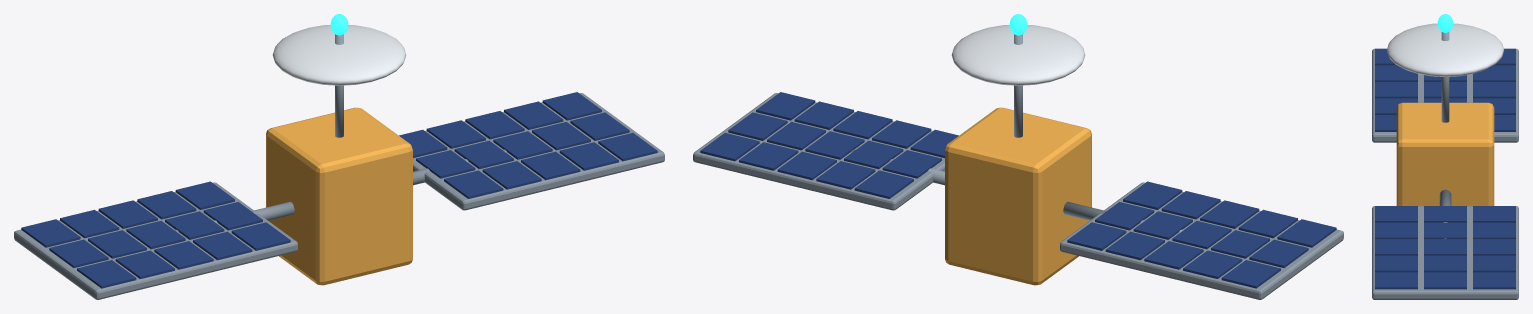
File: research-probe.glb
3 views of the same model, side by side, from view 1: azimuth 30°, elevation 25°; view 2: azimuth 150°, elevation 25°; view 3: azimuth 270°, elevation 25° (orthographic). The views are drawn at different scales.
Parts seen in each view (by area): view 1: Static_Probe photovoltaic blue, Probe bus, Static_Brushed titanium, Probe dish; view 2: Static_Probe photovoltaic blue, Probe bus, Static_Brushed titanium, Probe dish; view 3: Static_Probe photovoltaic blue, Probe bus, Static_Brushed titanium, Probe dish, Probe beacon.
Boxes of the visible parts, x1,y1,x2,y2 form: Static_Probe photovoltaic blue: [21, 92, 657, 288]; Probe bus: [266, 107, 412, 285]; Static_Brushed titanium: [14, 34, 664, 299]; Probe dish: [272, 25, 406, 85]; Static_Probe photovoltaic blue: [700, 92, 1336, 288]; Probe bus: [945, 107, 1091, 285]; Static_Brushed titanium: [693, 34, 1343, 299]; Probe dish: [951, 25, 1085, 85]; Static_Probe photovoltaic blue: [1375, 48, 1515, 289]; Probe bus: [1396, 102, 1494, 205]; Static_Brushed titanium: [1372, 32, 1518, 299]; Probe dish: [1387, 23, 1503, 76]; Probe beacon: [1437, 14, 1453, 32].
Size of the model in its own units: 5.9 by 2.4 by 1.5.
